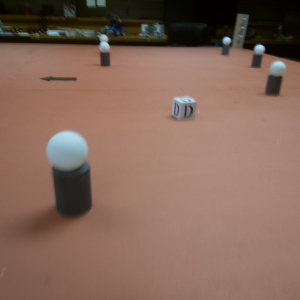obstacle: (48, 129, 96, 220), (269, 61, 285, 98), (251, 43, 264, 67), (99, 42, 111, 66), (220, 37, 232, 56)
